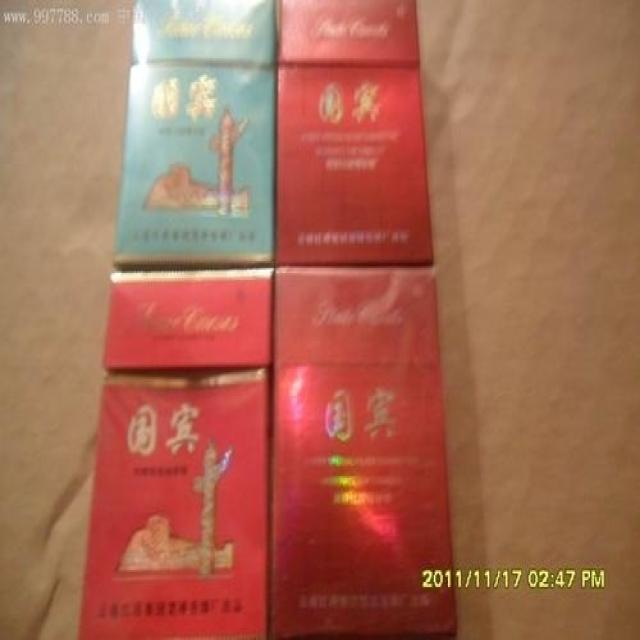box: (79, 270, 273, 638), (268, 268, 457, 638), (114, 2, 274, 266), (274, 0, 431, 265)
